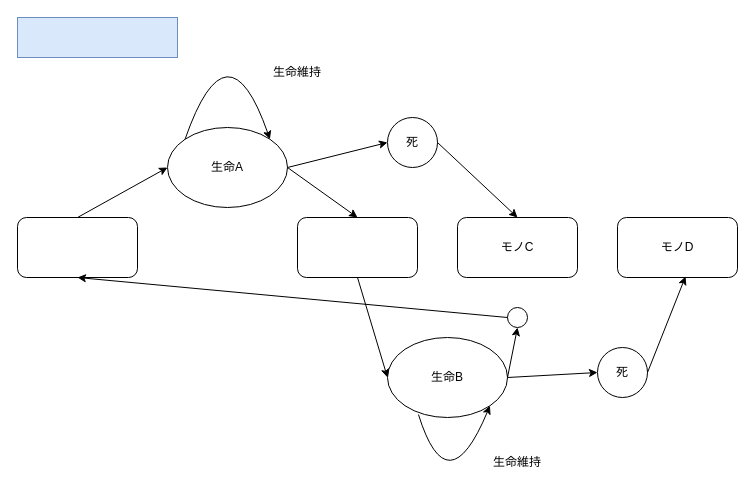
This 755x495 diagram has some shape labels left out. Here are the shapes that lost their labels. From the top down, the box of each, then its label:
(16, 16, 178, 58): つながり ～モノと生命２～
(16, 216, 138, 278): モノA
(296, 216, 418, 278): モノB
